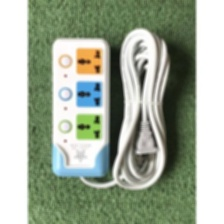three_eye_plug: (48, 33, 113, 181)
